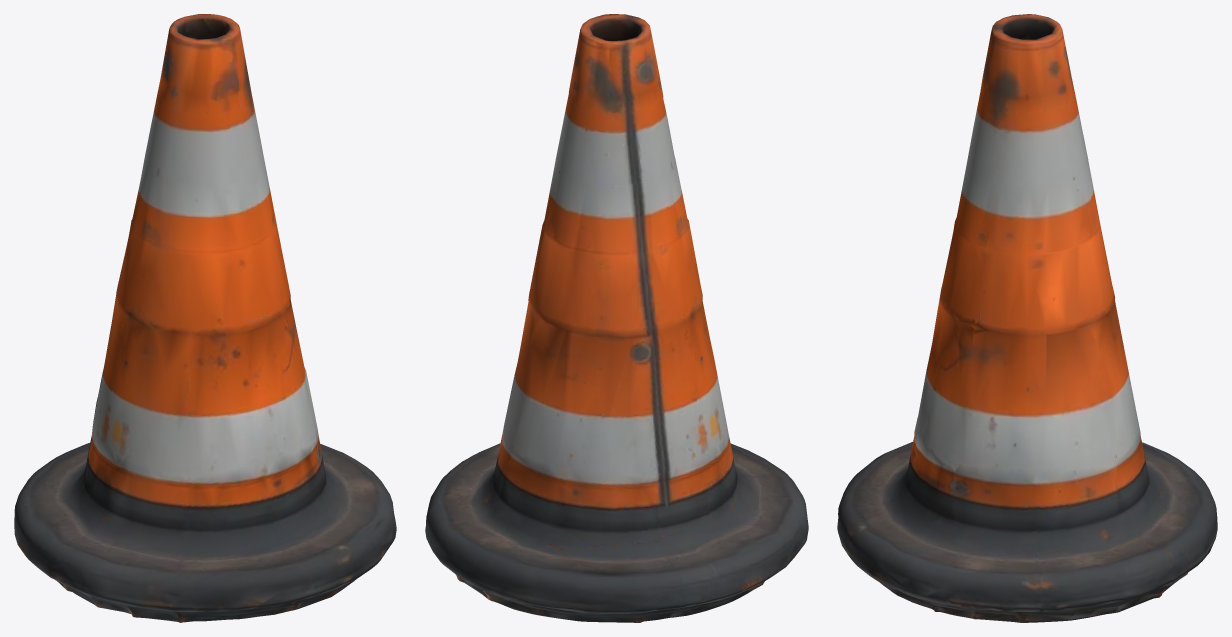
File: traffic-cone.glb
3 renders of one model, left to right at view 1: azimuth 30°, elevation 25°; view 2: azimuth 150°, elevation 25°; view 3: azimuth 270°, elevation 25°, orthographic.
Size of the model in its own units: 1.31 by 2 by 1.31.
Materials: 1 (1 with a texture image).
